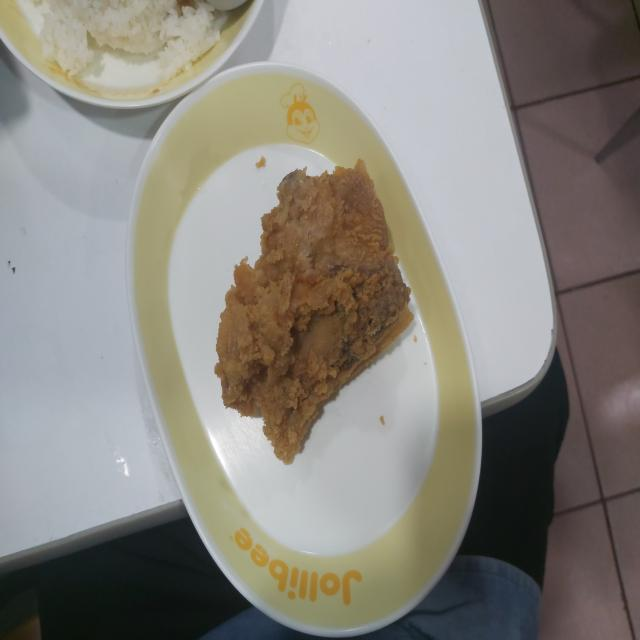Chicken -Fried Chicken-: (207, 148, 419, 478)
